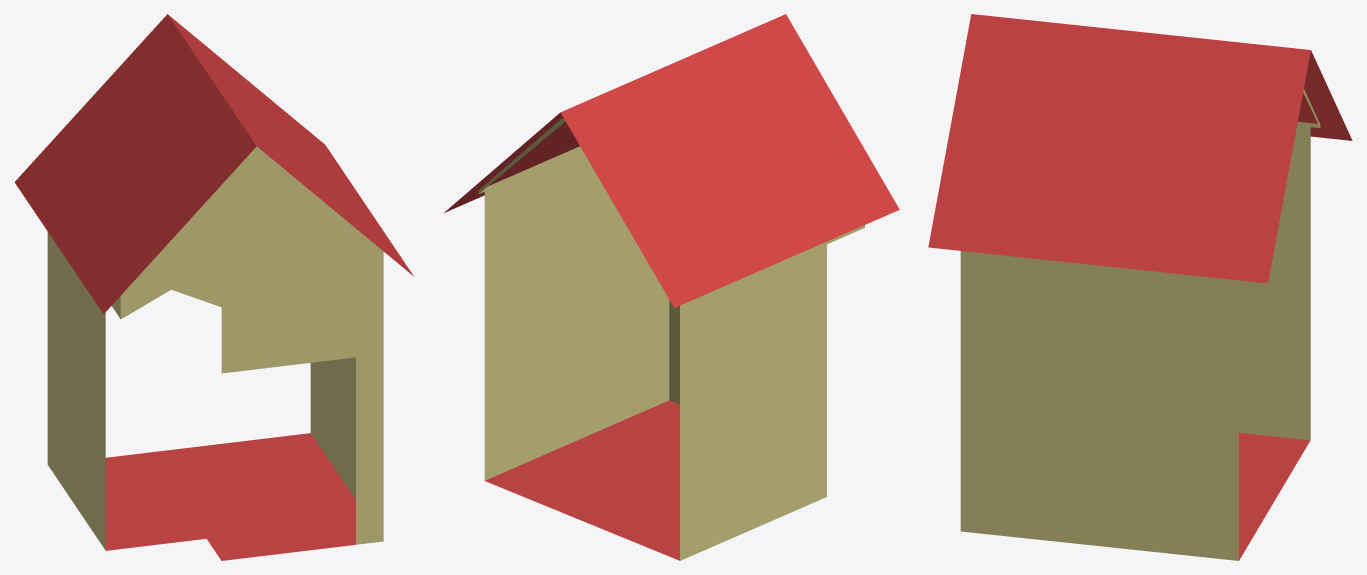
The picture shows the model from 3 angles, left to right: view 1: azimuth 30°, elevation 25°; view 2: azimuth 150°, elevation 25°; view 3: azimuth 270°, elevation 25°; orthographic projection. The views are drawn at different scales.
Bounding box in the file's own units: 11.83 × 11.88 × 14.01.
